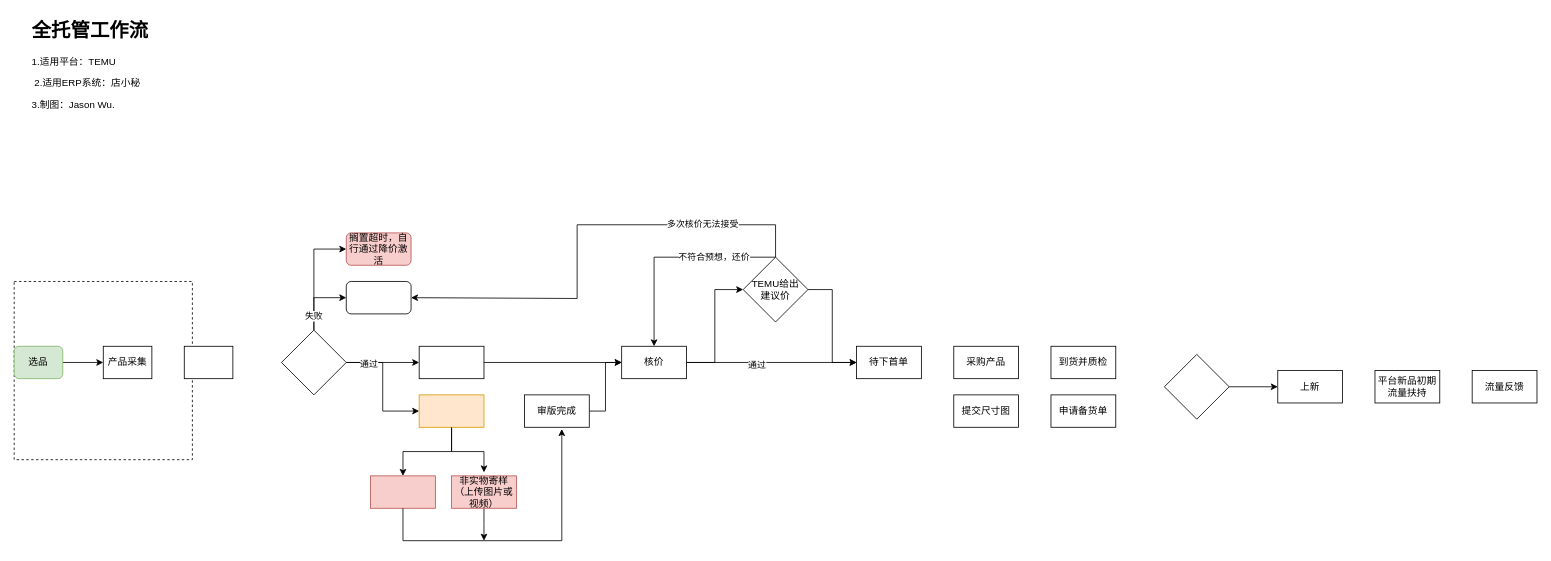
Some shapes in this 1551 by 561 pixel diagram are drawn without their labels. Here are the shapes that lost their labels. From the top down, the box of each, then its label:
(345, 281, 411, 314): 产品结束
(183, 345, 233, 379): 创建产品
(281, 329, 346, 395): TEMU买手 产品初审
(418, 345, 484, 379): 免寄样
(1164, 354, 1229, 419): TEMU仓库 质检
(418, 394, 484, 427): 寄样
(370, 475, 435, 508): 实物寄样至TEMU仓库（建议放弃产品）
